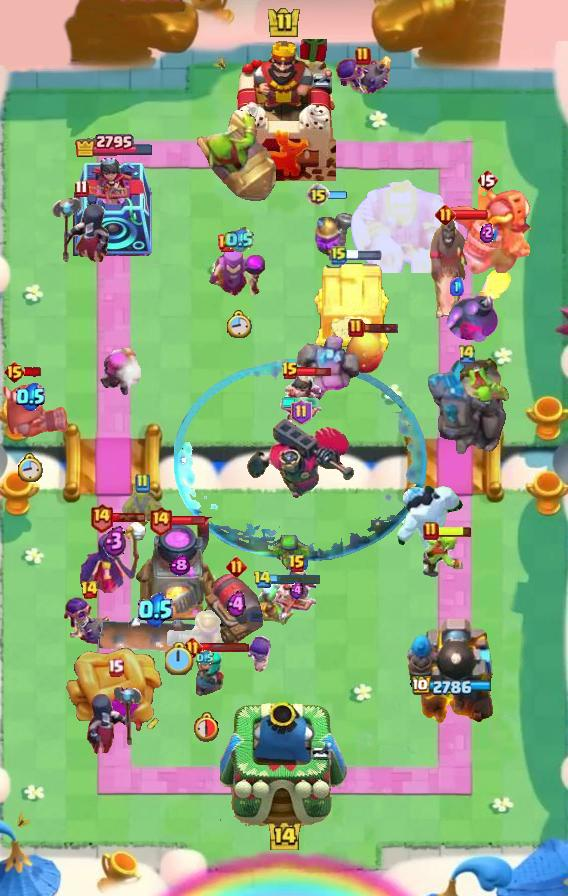bar: (269, 573, 322, 585), (200, 642, 250, 653), (437, 525, 473, 538), (297, 365, 332, 378), (362, 322, 399, 334), (453, 209, 489, 221), (171, 515, 206, 526), (111, 512, 146, 523), (344, 250, 382, 260), (24, 366, 43, 378), (328, 190, 347, 201)
bar-level: (148, 505, 173, 536), (89, 502, 114, 533), (306, 183, 330, 207), (3, 360, 26, 384), (291, 399, 312, 425), (476, 168, 498, 192), (182, 637, 203, 658), (226, 556, 247, 577), (435, 204, 456, 225), (457, 343, 477, 364), (216, 233, 236, 253), (80, 580, 99, 600), (253, 570, 272, 589), (288, 554, 306, 574), (281, 361, 299, 381), (107, 658, 124, 677), (423, 521, 439, 541), (134, 473, 150, 493), (348, 318, 364, 338), (331, 245, 347, 265), (355, 46, 371, 66), (74, 179, 89, 198)
bomb: (445, 268, 517, 342)
bomber-evolution: (61, 594, 117, 650), (334, 54, 392, 98)
cannoneer-tower: (406, 611, 500, 731)
clock: (165, 642, 194, 675), (191, 711, 219, 742), (17, 453, 43, 482), (226, 310, 252, 338)
elixir: (138, 592, 173, 627), (16, 382, 45, 411), (103, 525, 127, 557), (225, 227, 254, 253), (227, 591, 246, 618), (169, 555, 190, 576), (480, 222, 494, 243), (196, 650, 214, 666), (289, 582, 305, 599), (450, 277, 464, 296)
firecracker: (100, 345, 141, 399)
goblin: (422, 529, 466, 579), (120, 484, 164, 526)
goblin-ball: (459, 357, 513, 405)
golemite: (297, 329, 359, 405)
hunter: (0, 377, 70, 439)
king-tower: (220, 701, 348, 826), (232, 39, 336, 181)
mother-witch: (209, 245, 269, 299)
musketeer: (165, 610, 223, 660), (315, 199, 353, 261)
night-witch: (85, 682, 145, 756), (51, 194, 111, 266)
phoenix-egg: (345, 331, 385, 375)
princess: (277, 370, 325, 432), (275, 566, 319, 626)
queen-tower: (73, 158, 155, 256)
rascal-girl: (184, 648, 226, 698)
skeleton-evolution: (246, 634, 272, 672)
spear-goblin: (247, 582, 297, 626), (273, 535, 315, 575)
the-log: (94, 615, 216, 659)
tower-bar: (74, 132, 155, 157), (412, 676, 494, 697)
witch: (77, 516, 153, 596)
